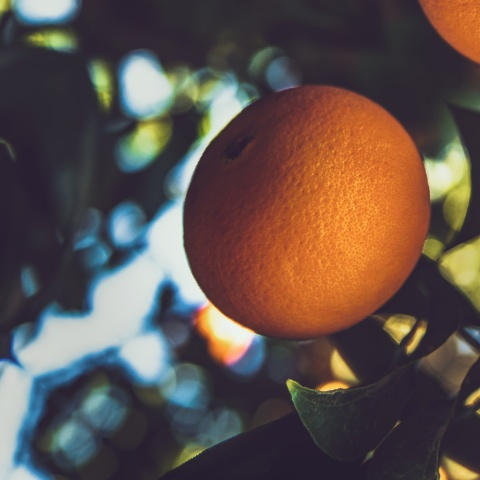orange: (89, 11, 480, 433)
